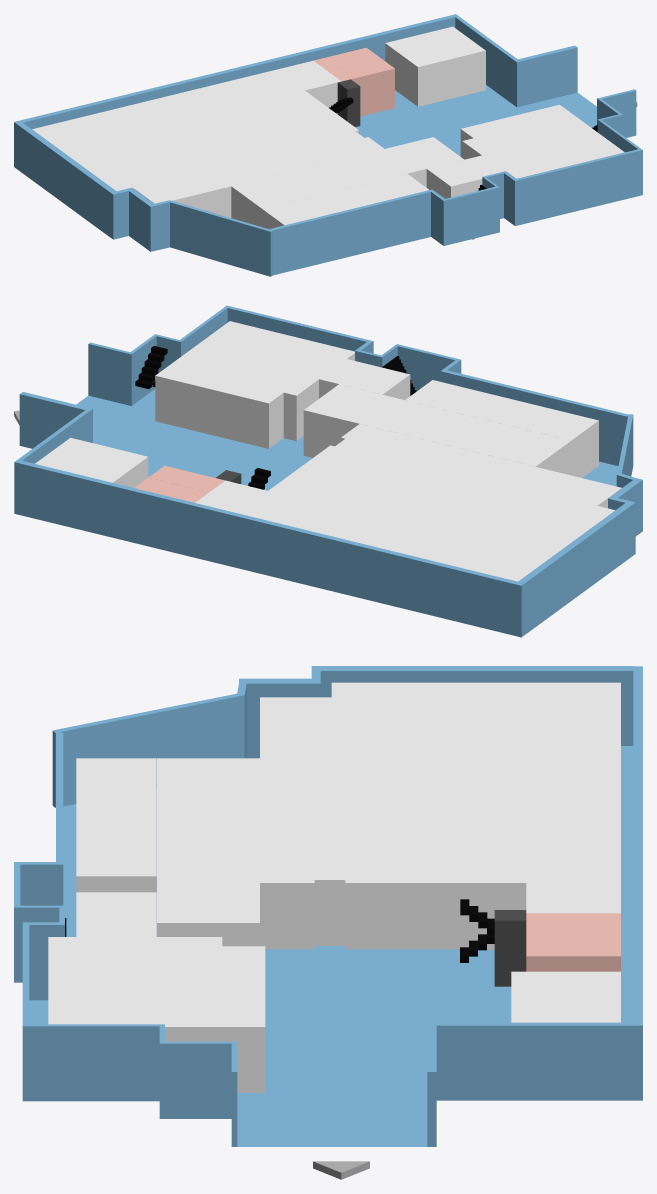
3 views of the same model, one above another, from view 1: azimuth 30°, elevation 25°; view 2: azimuth 150°, elevation 25°; view 3: azimuth 270°, elevation 25° (orthographic). The views are drawn at different scales.
Parts seen in each view (by area): view 1: object, 入学課, 書庫, ブラウジングコーナー, 男子トイレ_図書館生田分館_1_1, エレベーター_図書館生田分館_1_1, 男子トイレ_図書館生田分館_1_2; view 2: object, 入学課, 書庫, ブラウジングコーナー, 男子トイレ_図書館生田分館_1_1, 男子トイレ_図書館生田分館_1_2, 階段__図書館生田分館_1_3; view 3: object, 入学課, 書庫, ブラウジングコーナー, 男子トイレ_図書館生田分館_1_2, 男子トイレ_図書館生田分館_1_1, エレベーター_図書館生田分館_1_1, 階段__図書館生田分館_1_1, transitionTo_全体マップ_L1_1_1.
Part boxes in pixels (box(x1,y1,x2,y2)): object: box(14, 14, 642, 276); 入学課: box(32, 69, 384, 217); 書庫: box(460, 104, 624, 178); ブラウジングコーナー: box(385, 26, 485, 106); 男子トイレ_図書館生田分館_1_1: box(328, 58, 394, 116); エレベーター_図書館生田分館_1_1: box(337, 79, 360, 126); 男子トイレ_図書館生田分館_1_2: box(314, 47, 380, 70); object: box(14, 305, 642, 637); 入学課: box(238, 424, 621, 581); 書庫: box(155, 321, 354, 448); ブラウジングコーナー: box(35, 437, 148, 487); 男子トイレ_図書館生田分館_1_1: box(149, 466, 224, 492); 男子トイレ_図書館生田分館_1_2: box(134, 477, 208, 502); 階段__図書館生田分館_1_3: box(135, 346, 167, 388); object: box(14, 666, 642, 1146); 入学課: box(260, 682, 620, 949); 書庫: box(48, 937, 265, 1092); ブラウジングコーナー: box(511, 971, 620, 1022); 男子トイレ_図書館生田分館_1_2: box(573, 913, 620, 971); 男子トイレ_図書館生田分館_1_1: box(526, 913, 573, 971); エレベーター_図書館生田分館_1_1: box(494, 910, 526, 986); 階段__図書館生田分館_1_1: box(460, 899, 494, 962); transitionTo_全体マップ_L1_1_1: box(313, 1161, 369, 1179).
Bounding box in the file's own units: 2.52 × 0.219 × 1.54.
